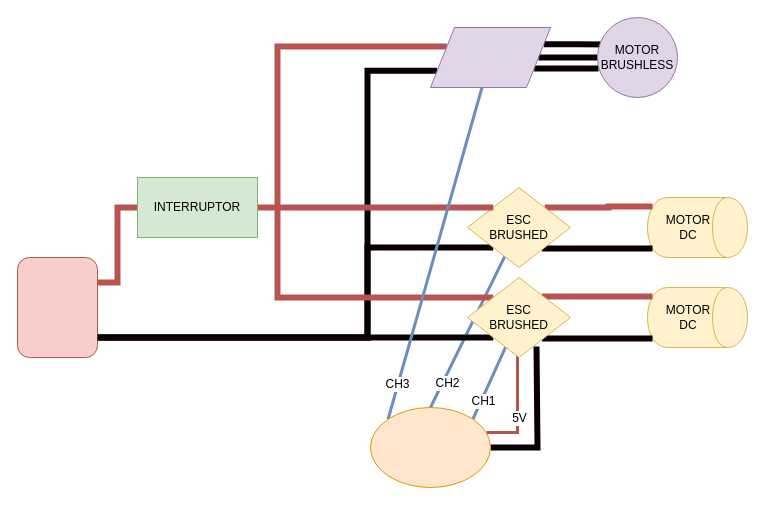
This 765x505 diagram has some shape labels left out. Each missing label, with the centre of its shape:
BATERÍA: the point at 57,307
ESC BRUSHLESS: the point at 490,57
RECEPTOR EMISORA: the point at 430,447
